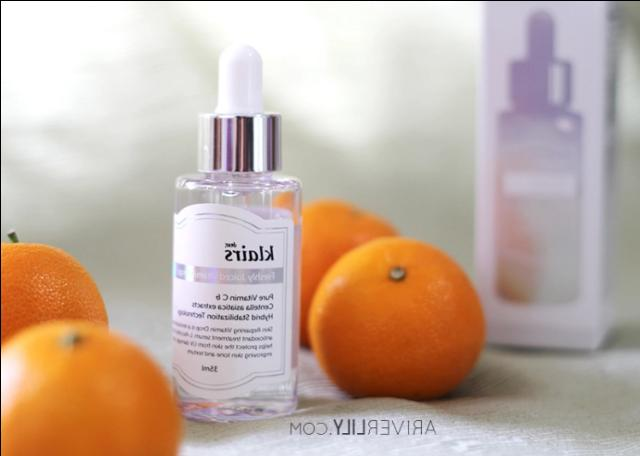Oranges: (308, 237, 482, 397), (1, 320, 180, 456), (0, 226, 110, 335)
